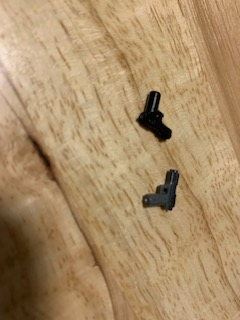pistol: (133, 87, 180, 143), (140, 165, 180, 220)
